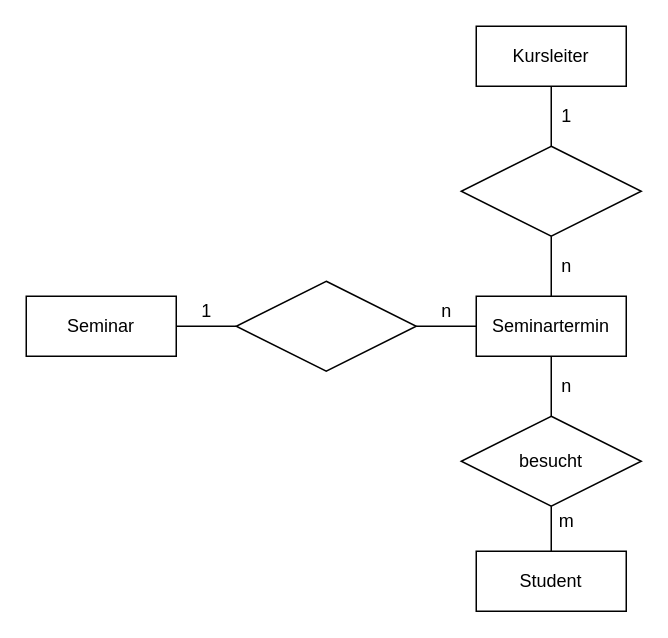
The diagram is 668 pixels wide and 638 high, and some of its shapes have lost their labels. The centre of each missing label's shape, as x and y in pixels:
"findet statt" belongs at pixel 325 325.
"leitet" belongs at pixel 550 190.
